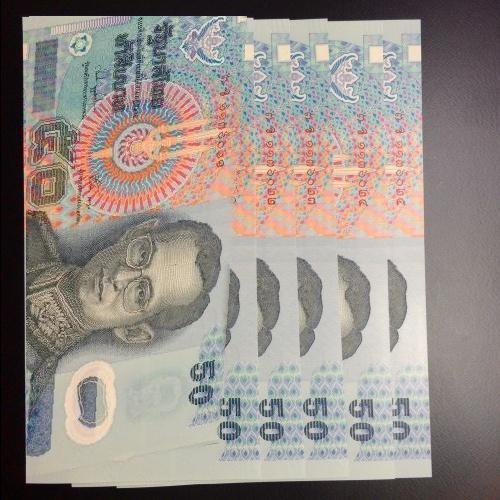50BahtTai: (26, 16, 250, 483)
